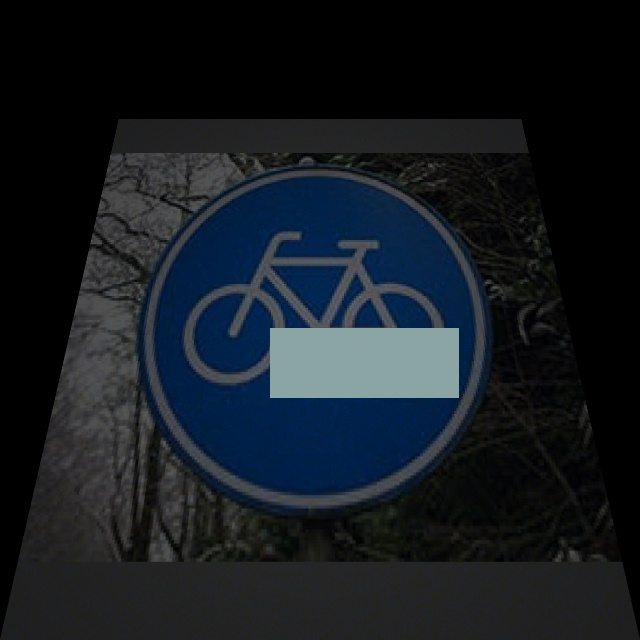Compulsory_Cycle_Track: (121, 171, 517, 485)
